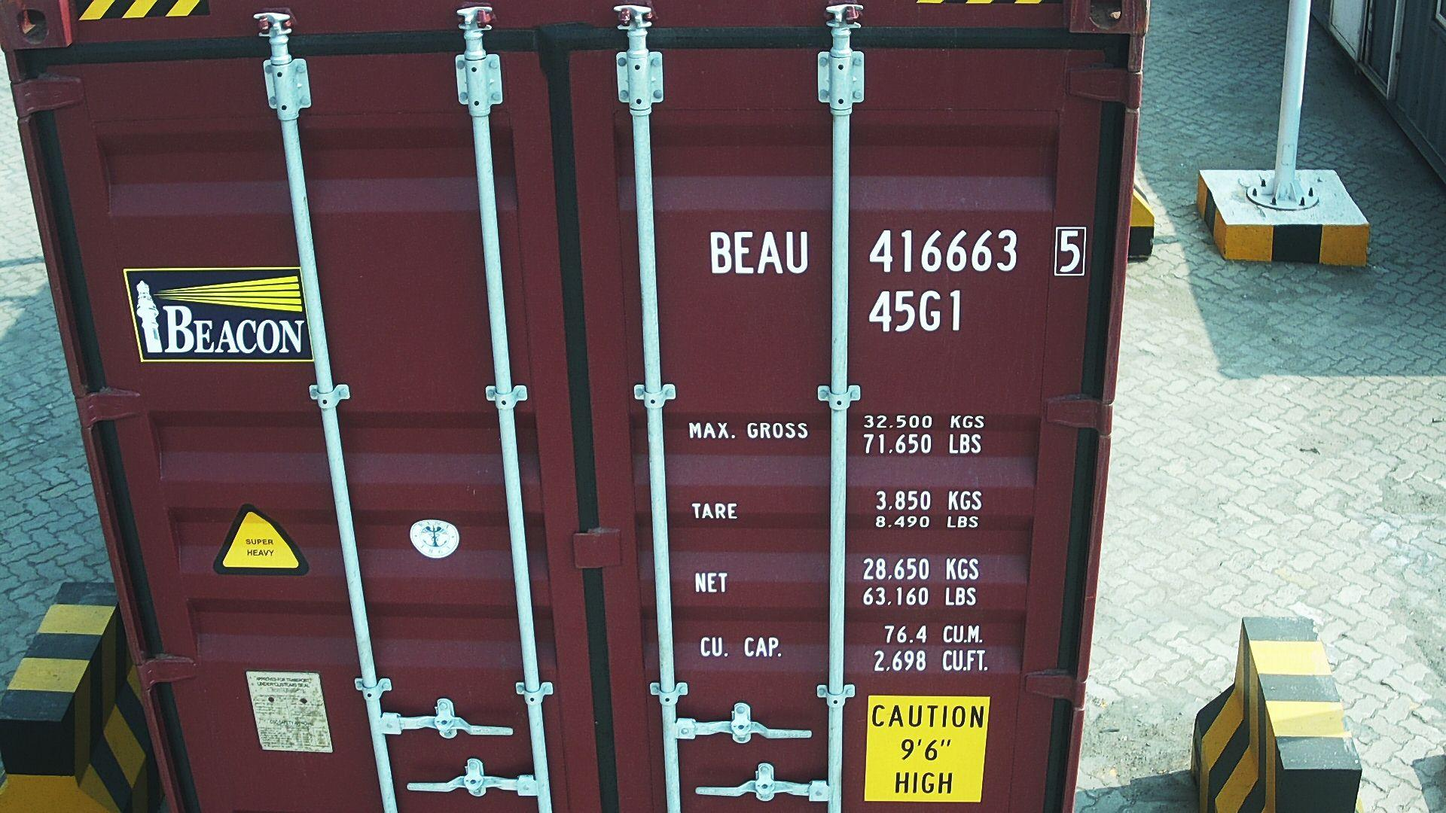container-numbers: (703, 224, 1094, 282), (865, 286, 967, 336)
